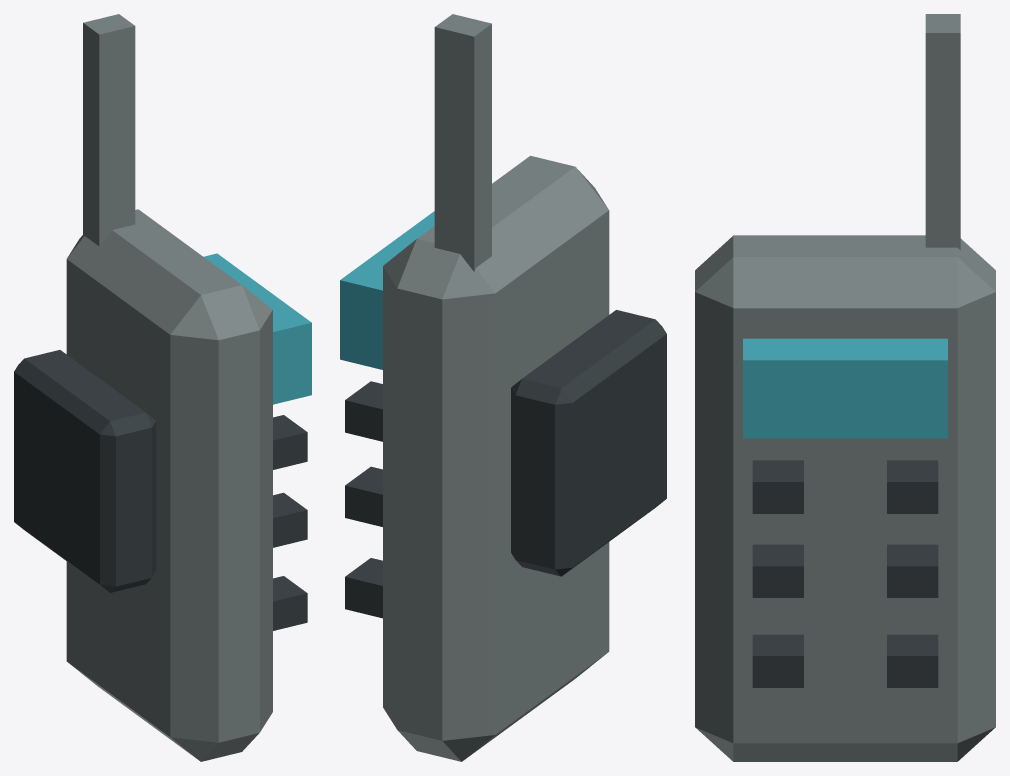
Rendered from person_tool_tornado.obj.
3 renders of one model, left to right at view 1: azimuth 30°, elevation 25°; view 2: azimuth 150°, elevation 25°; view 3: azimuth 270°, elevation 25°, orthographic. The views are drawn at different scales.
Visible parts, largest first — view 1: person_tool_tornado; view 2: person_tool_tornado; view 3: person_tool_tornado.
Boxes of the visible parts, x1,y1,x2,y2 form: person_tool_tornado: (14,14,311,761); person_tool_tornado: (340,14,666,761); person_tool_tornado: (695,14,995,761).
Bounding box in the file's own units: 0.081 × 0.248 × 0.094.
